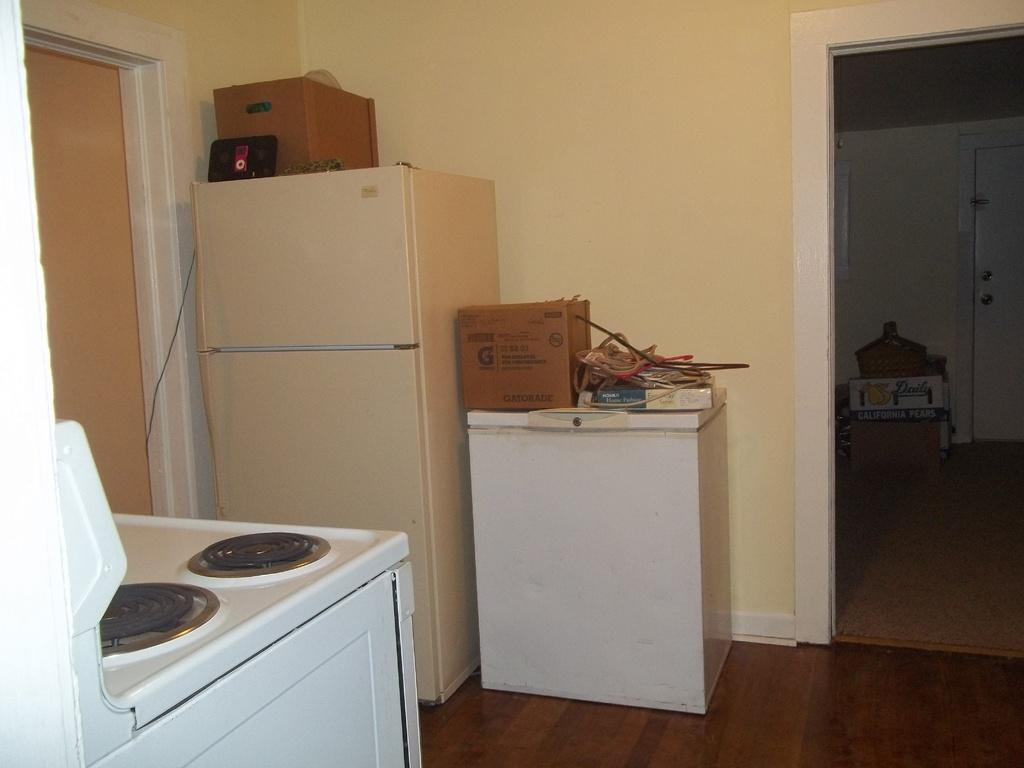door: (29, 47, 163, 520), (974, 154, 1024, 446)
handle: (978, 288, 1000, 317)
